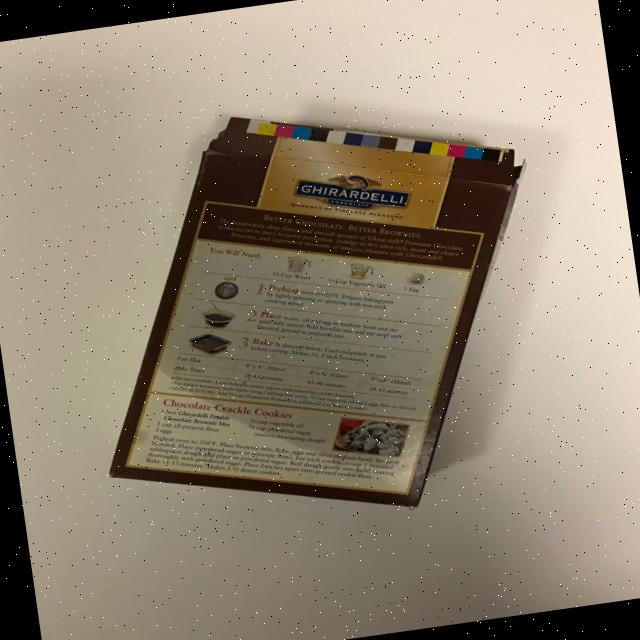paper: (61, 77, 572, 550)
